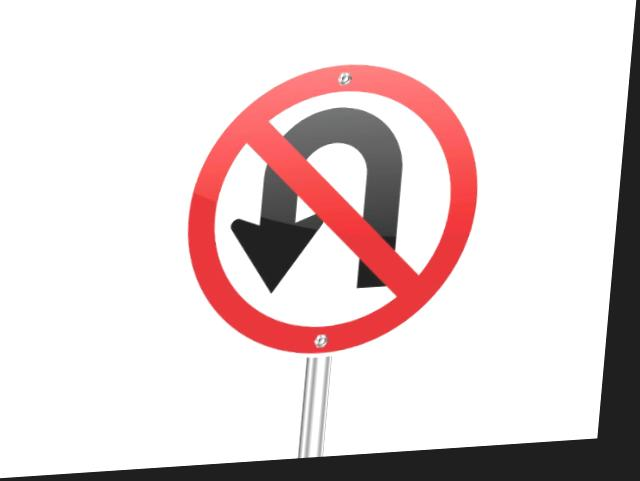not_u_turn_left: (164, 56, 499, 375)
